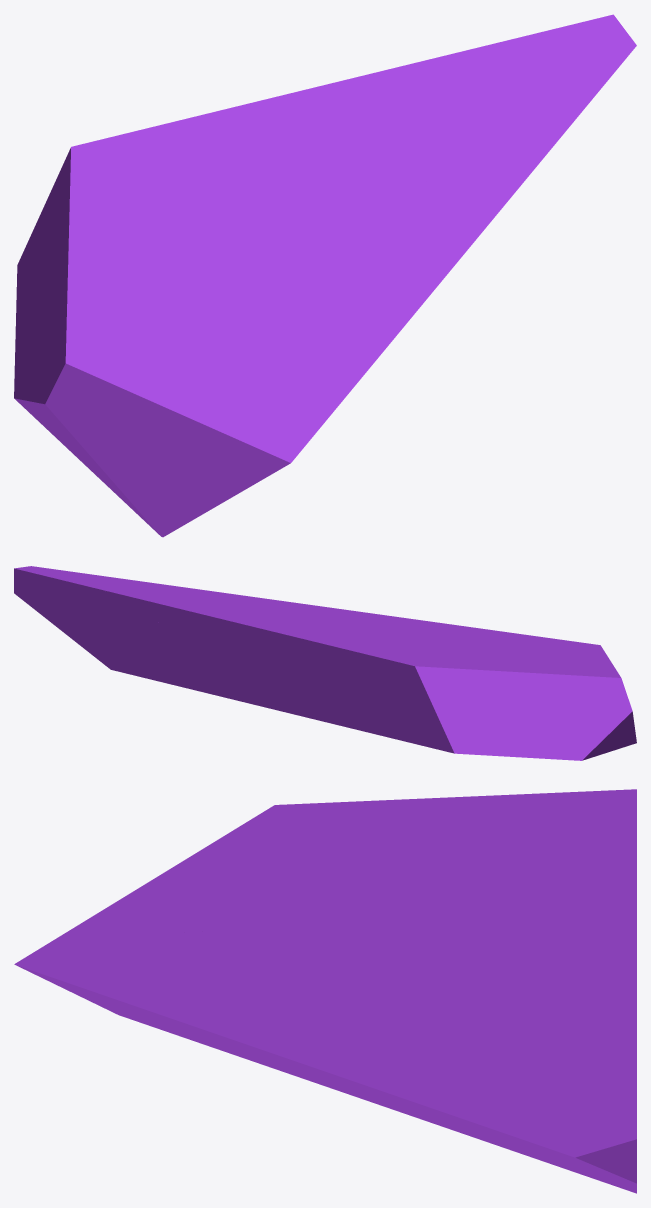
File: Window_148_5_chunks.fbx
The picture shows the model from 3 angles, top to bottom: view 1: azimuth 30°, elevation 25°; view 2: azimuth 150°, elevation 25°; view 3: azimuth 270°, elevation 25°; orthographic projection. The views are drawn at different scales.
Visible parts, largest first — view 1: Window_148_5_0, Window_148_5_3, Window_148_5_2, Window_148_5_1; view 2: Window_148_5_3, Window_148_5_0, Window_148_5_1, Window_148_5_2; view 3: Window_148_5_3, Window_148_5_2, Window_148_5_0, Window_148_5_1.
Boxes of the visible parts, <box> form: Window_148_5_0: <box>14,198,267,537</box>; Window_148_5_3: <box>43,44,492,258</box>; Window_148_5_2: <box>249,168,535,476</box>; Window_148_5_1: <box>421,14,636,181</box>; Window_148_5_3: <box>103,590,463,738</box>; Window_148_5_0: <box>394,642,636,760</box>; Window_148_5_1: <box>14,566,334,724</box>; Window_148_5_2: <box>199,589,602,649</box>; Window_148_5_3: <box>375,789,636,1061</box>; Window_148_5_2: <box>14,918,434,1100</box>; Window_148_5_0: <box>34,793,550,1082</box>; Window_148_5_1: <box>351,1025,636,1193</box>.
Size of the model in its own units: 701 by 211 by 407.
